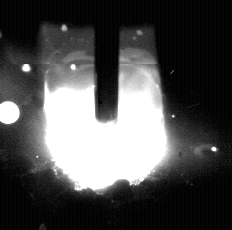arame: (95, 0, 119, 124)
poca: (44, 0, 168, 230)
